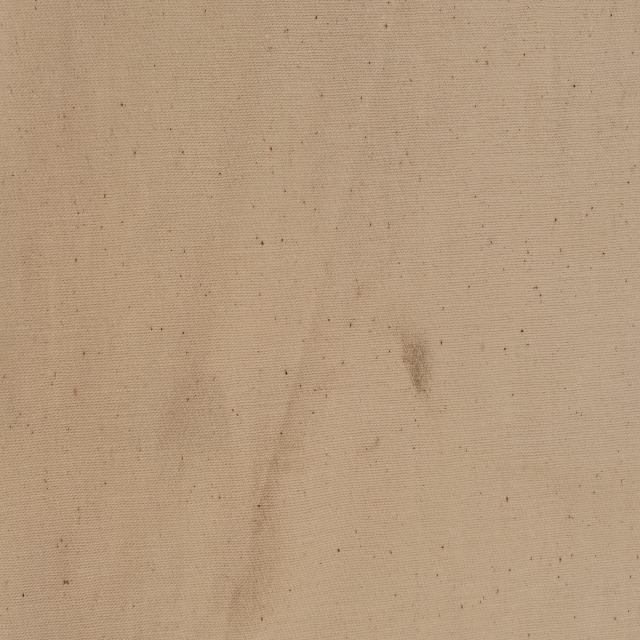taaaches: (392, 304, 442, 414)
